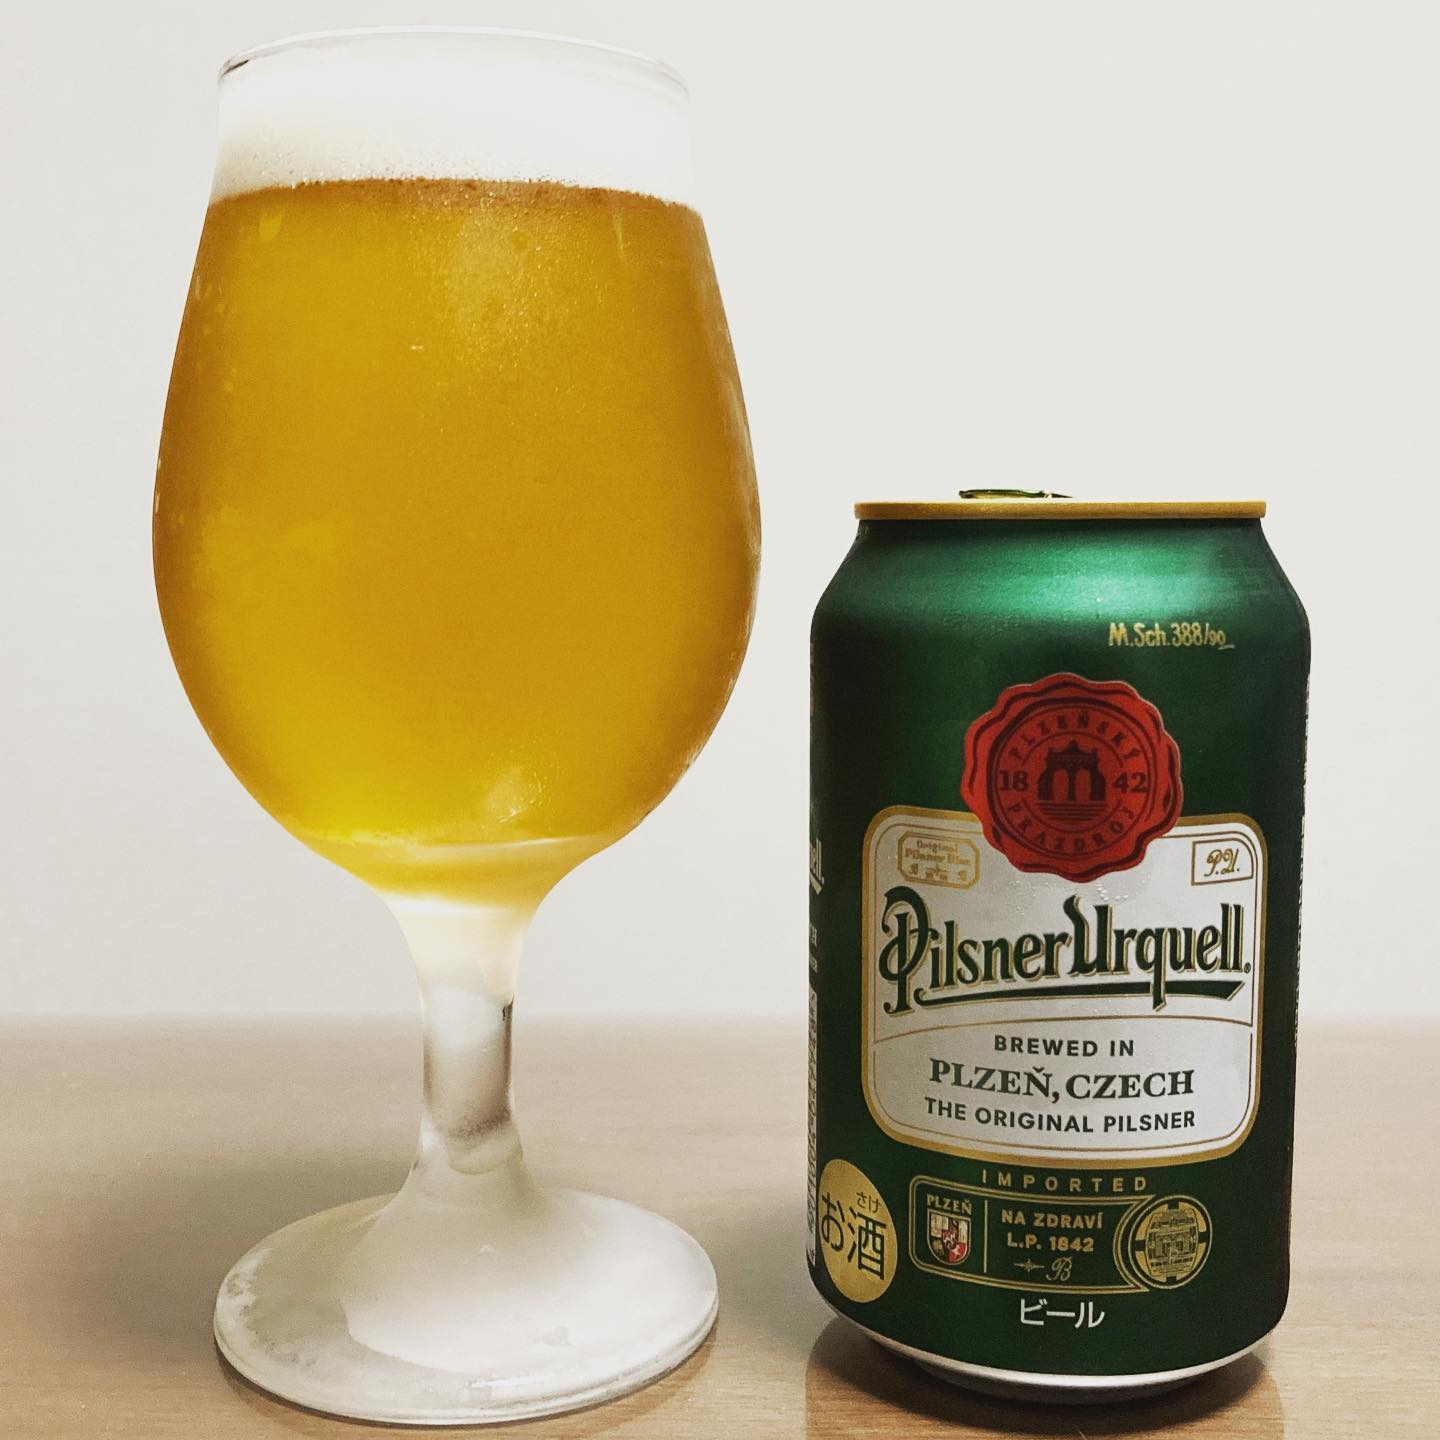alcohol: (141, 20, 766, 1433), (793, 476, 1321, 1415)
